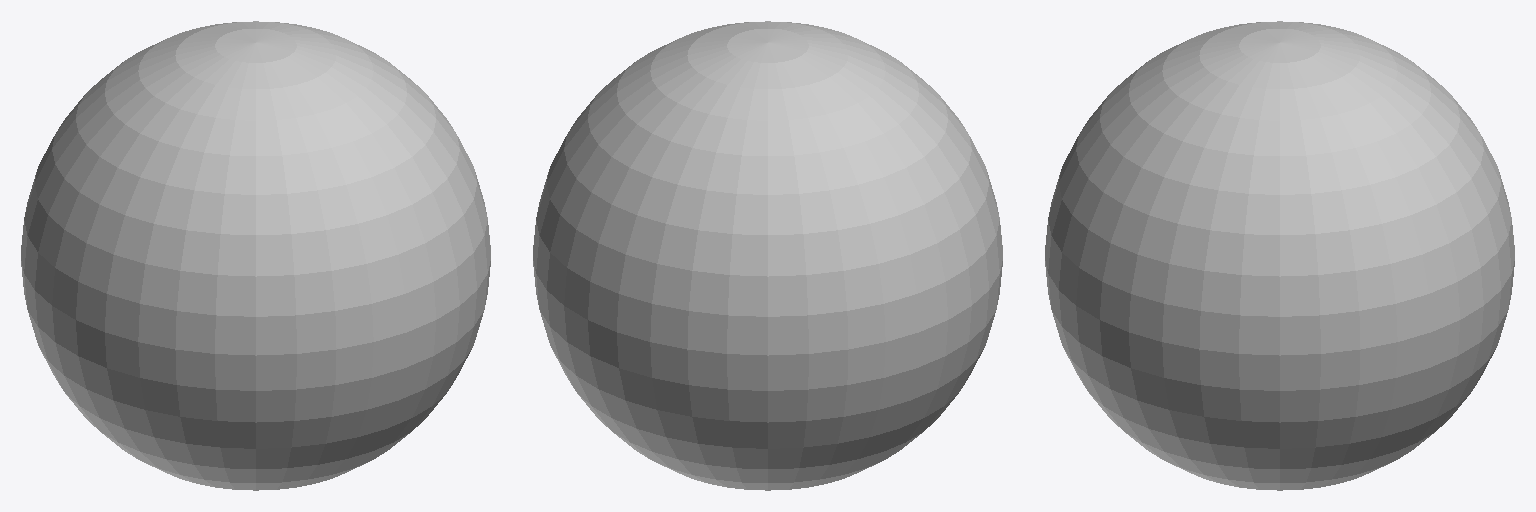
The model's file is miniearth.obj.
The picture shows the model from 3 angles: view 1: azimuth 30°, elevation 25°; view 2: azimuth 150°, elevation 25°; view 3: azimuth 270°, elevation 25°; orthographic projection.
Parts seen in each view (by area): view 1: Sphere; view 2: Sphere; view 3: Sphere.
Boxes of the visible parts, x1=… form: Sphere: x1=21, y1=21, x2=490, y2=490; Sphere: x1=533, y1=21, x2=1002, y2=490; Sphere: x1=1045, y1=21, x2=1514, y2=490.
Size of the model in its own units: 3823 by 3823 by 3823.